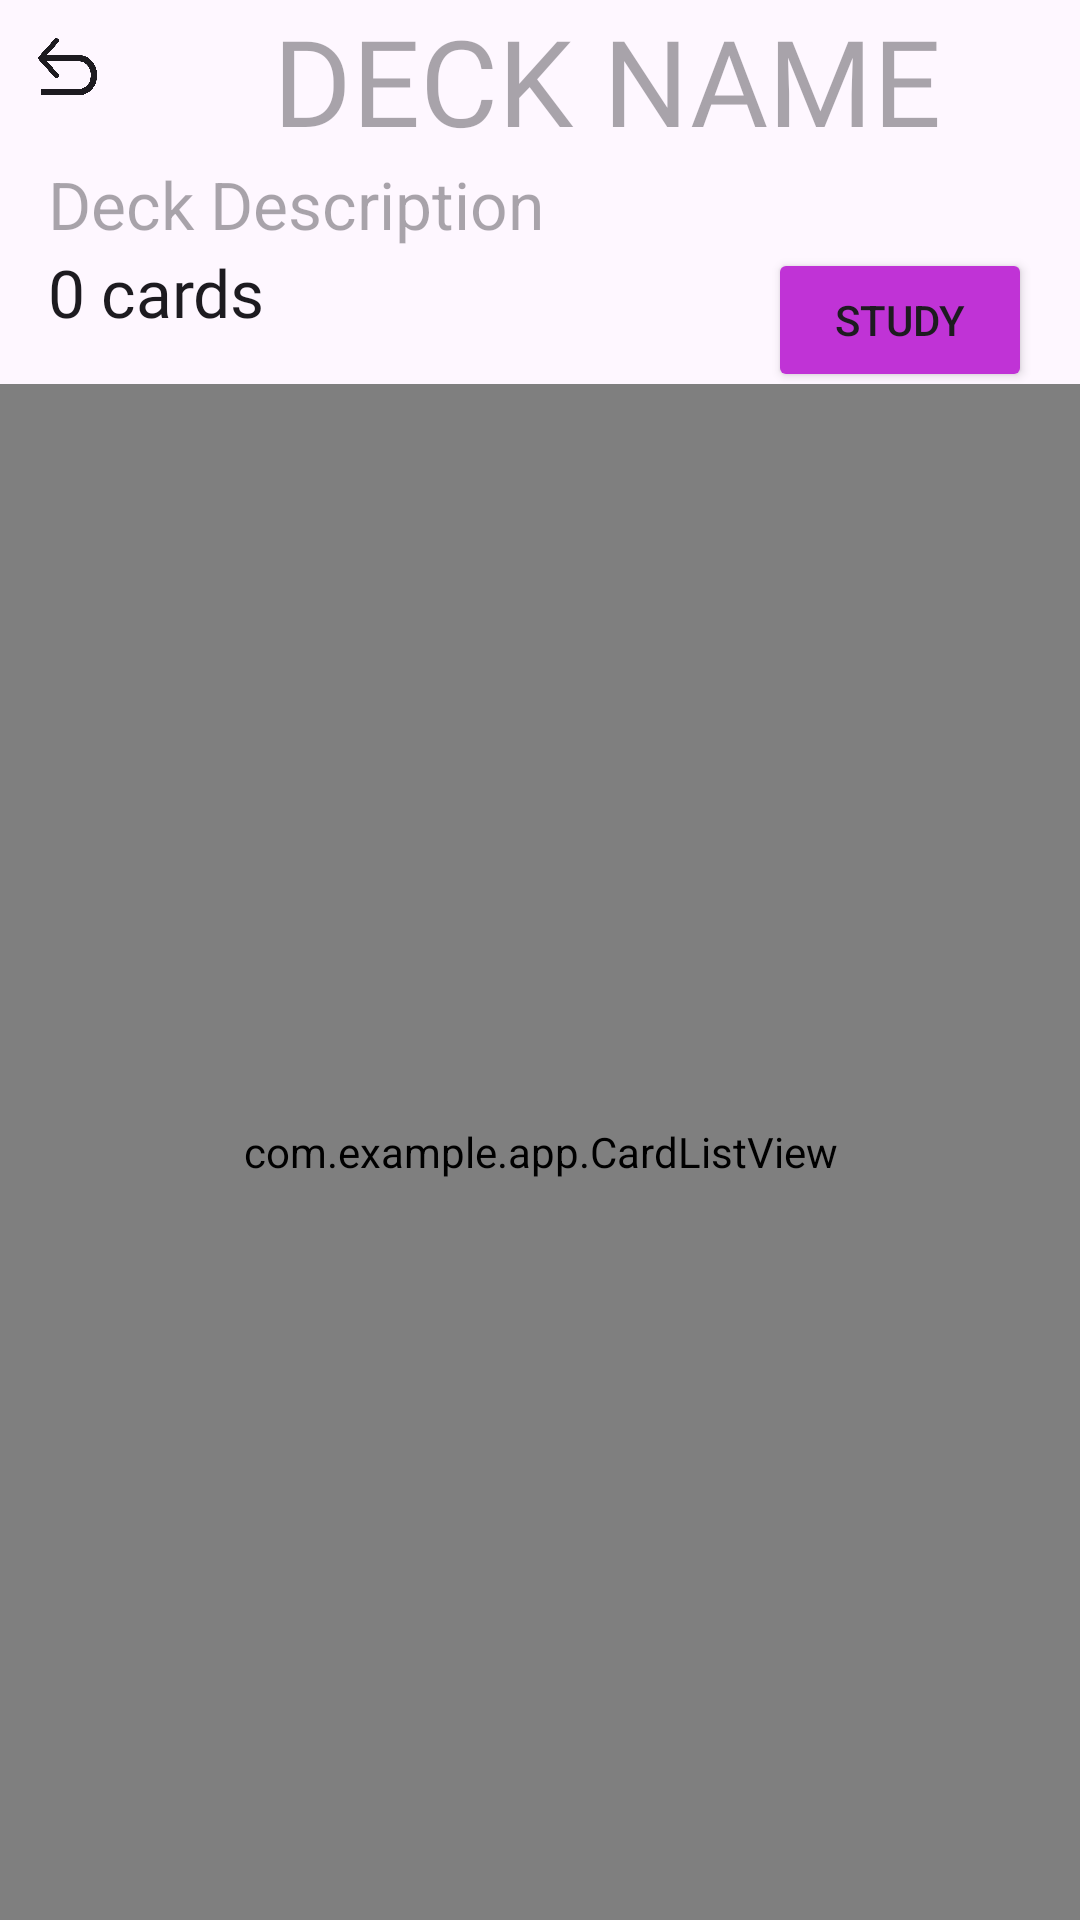

Named icons in this screenshot (1080×1920) and their centers, point (x, y):
Back arrow icon: point (67, 66)
